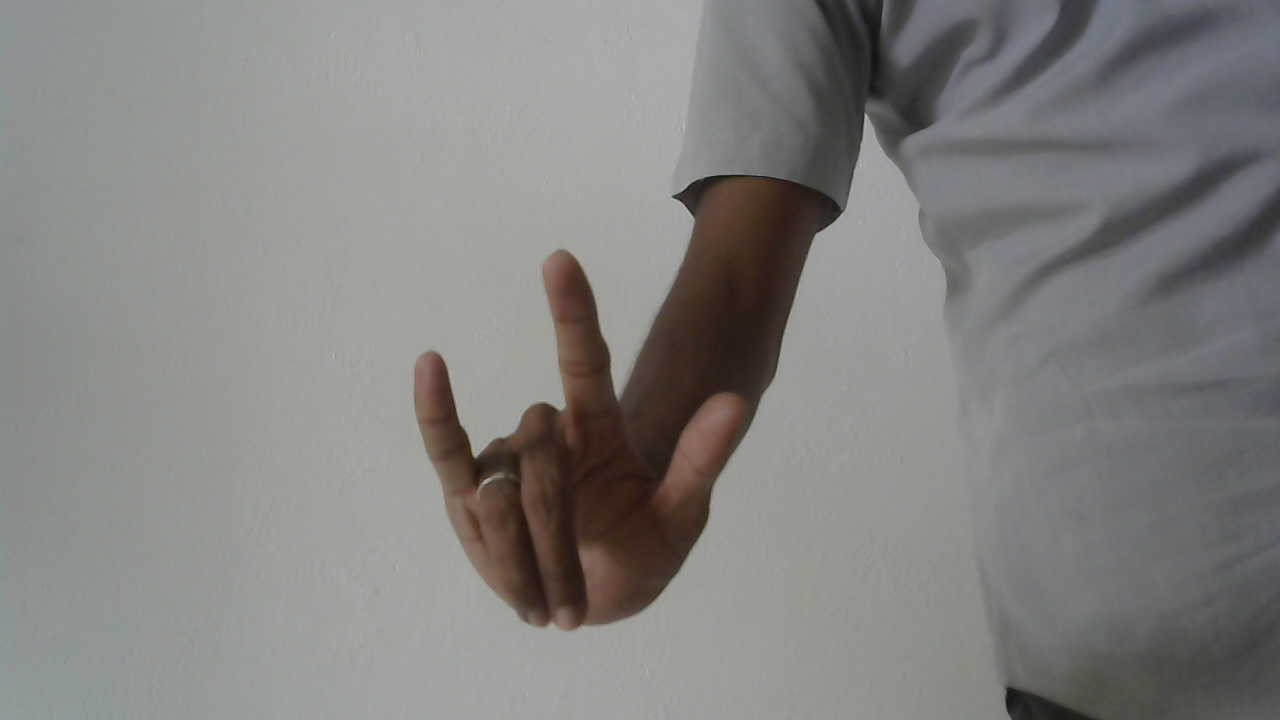iloveyou: (399, 243, 762, 642)
